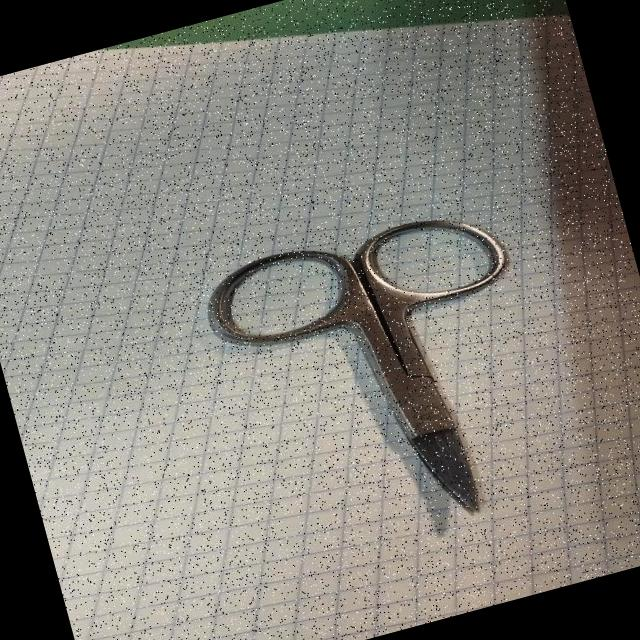scissors: (186, 191, 579, 574)
